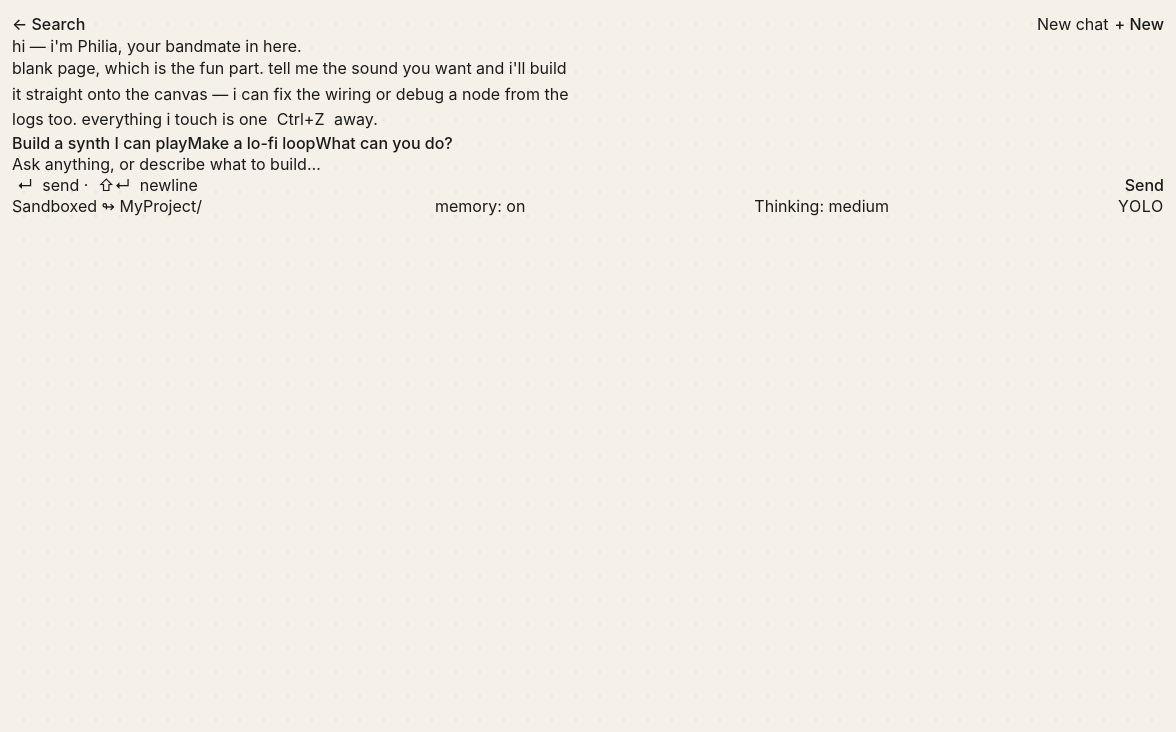
AiPanel chat › the /new slash command starts a new session instead of sending
This screenshot has width=1176, height=732.
Type "/new" into the text box with placeholder "Ask anything, or describe what to build…". click: [588, 164]
box: [12,153,1164,175]
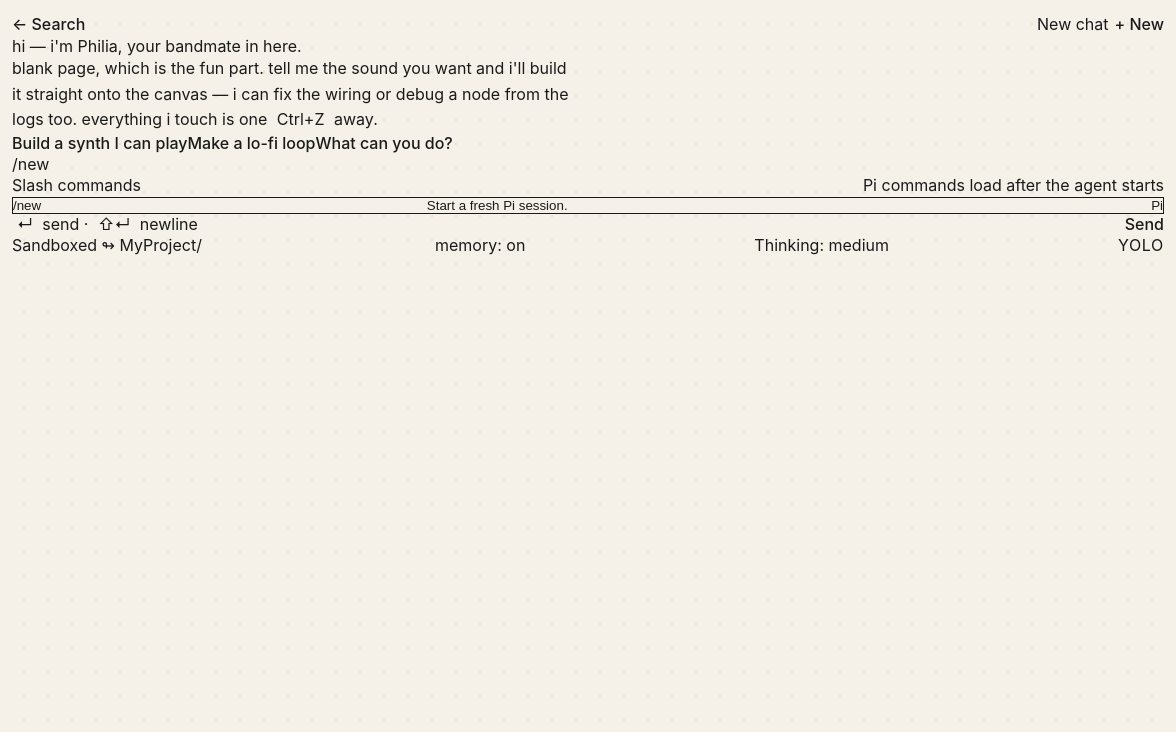
Press Enter in the text box with placeholder "Ask anything, or describe what to build…", box [12,153,1164,175]
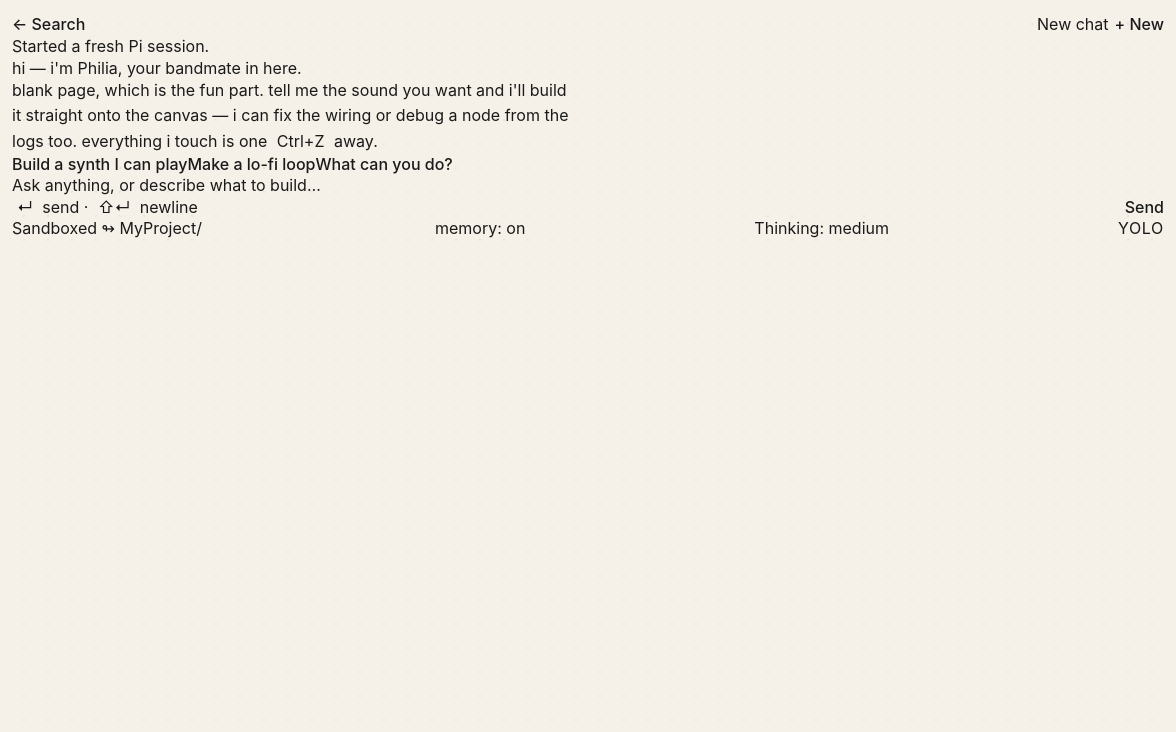
Now the text "Started a fresh Pi session." is shown, box [12,36,209,58]
